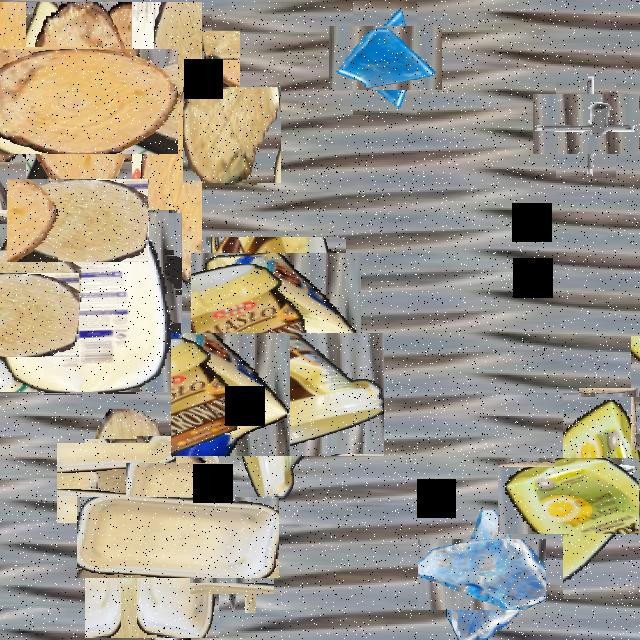glass: (432, 524, 532, 624), (126, 16, 226, 116), (340, 14, 430, 103)
metal: (544, 83, 628, 166), (138, 451, 222, 534), (199, 537, 265, 604), (563, 453, 609, 535)
plastic: (72, 2, 202, 282), (0, 210, 181, 393), (194, 310, 362, 479), (198, 244, 354, 400), (107, 466, 249, 608), (530, 425, 640, 566)
wood: (3, 25, 155, 178), (85, 439, 173, 638), (74, 426, 188, 541), (21, 164, 134, 277), (0, 24, 92, 139), (183, 87, 281, 183), (604, 362, 640, 423), (0, 191, 32, 245)
